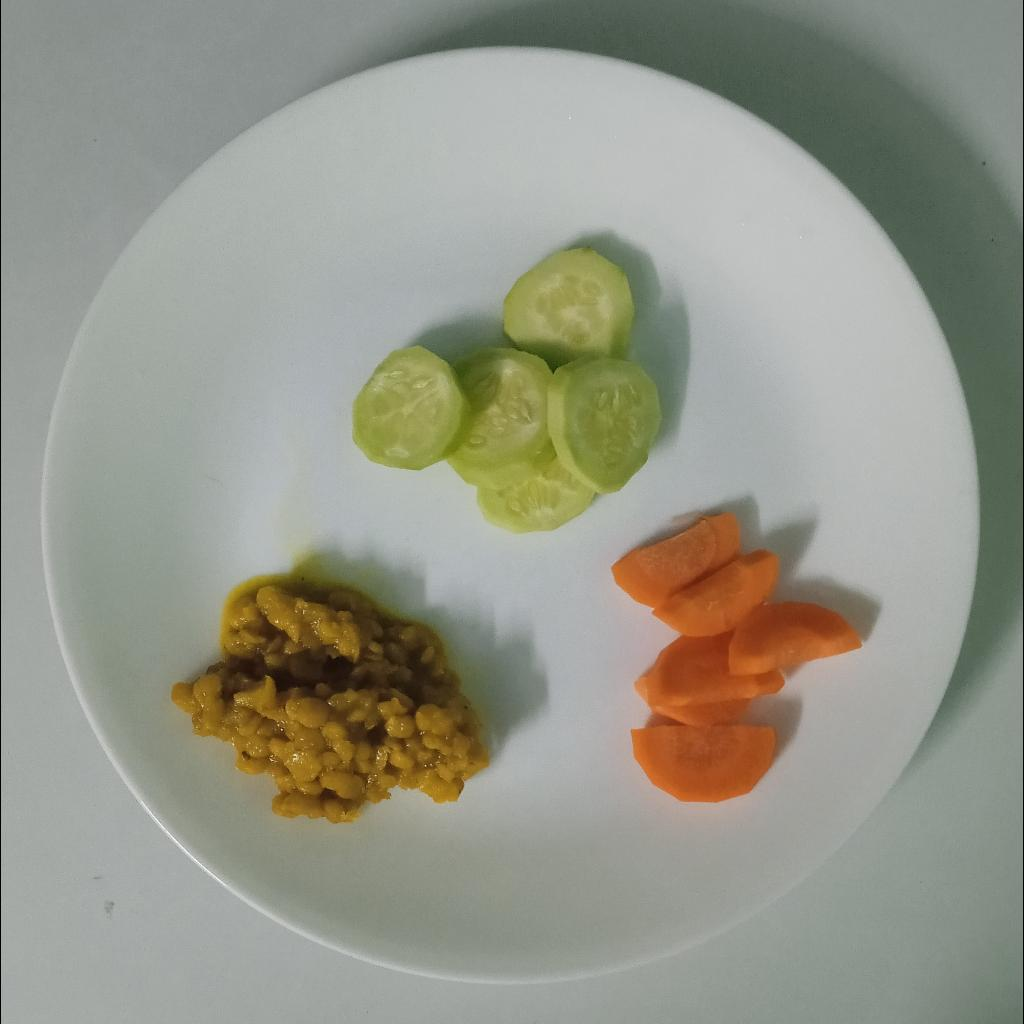carrot: (608, 512, 868, 804)
cucumber: (347, 243, 666, 537)
daal: (170, 586, 487, 824)
